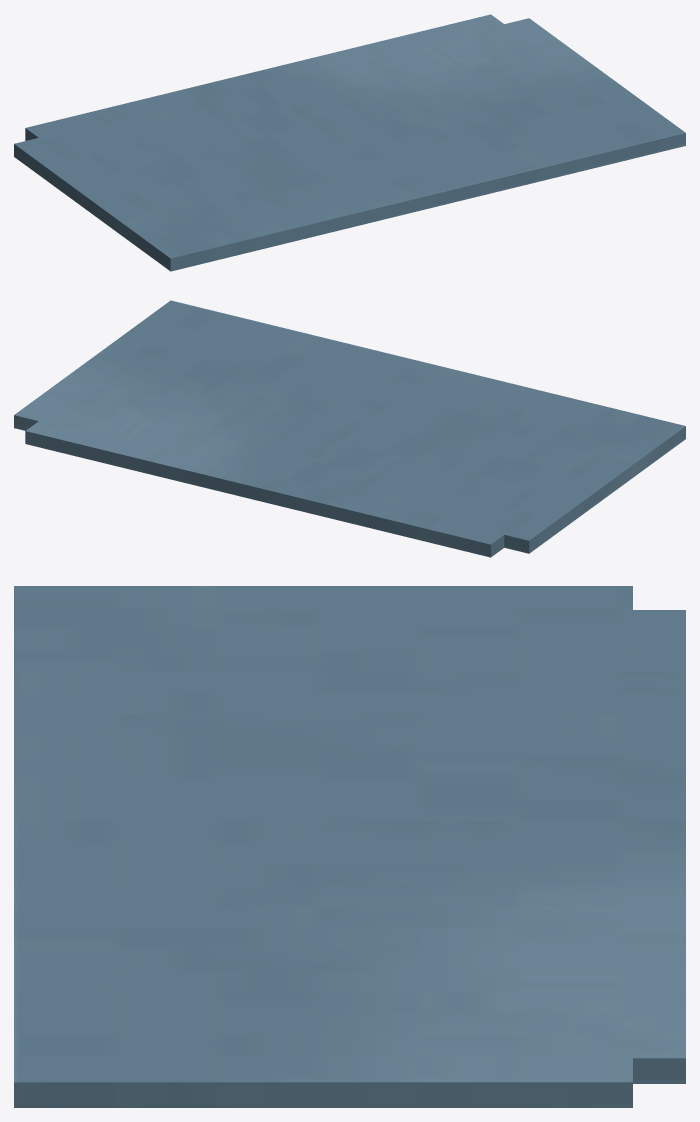
Rendered from original-11.obj.
3 renders of one model, top to bottom at view 1: azimuth 30°, elevation 25°; view 2: azimuth 150°, elevation 25°; view 3: azimuth 270°, elevation 25°, orthographic. The views are drawn at different scales.
Visible parts, largest first — view 1: Shelf-664.380.16_1/Shelf-664.380.16/mesh13/mesh13-geometry#mesh1; view 2: Shelf-664.380.16_1/Shelf-664.380.16/mesh13/mesh13-geometry#mesh1; view 3: Shelf-664.380.16_1/Shelf-664.380.16/mesh13/mesh13-geometry#mesh1.
Boxes of the visible parts, bbox=[...] form: Shelf-664.380.16_1/Shelf-664.380.16/mesh13/mesh13-geometry#mesh1: bbox=[14, 14, 685, 271]; Shelf-664.380.16_1/Shelf-664.380.16/mesh13/mesh13-geometry#mesh1: bbox=[14, 300, 685, 557]; Shelf-664.380.16_1/Shelf-664.380.16/mesh13/mesh13-geometry#mesh1: bbox=[14, 586, 685, 1107].
Size of the model in its own units: 0.5488 by 0.0132 by 0.3141.
